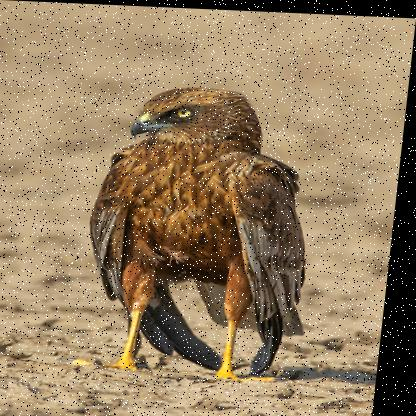Burung: (75, 80, 328, 384)
